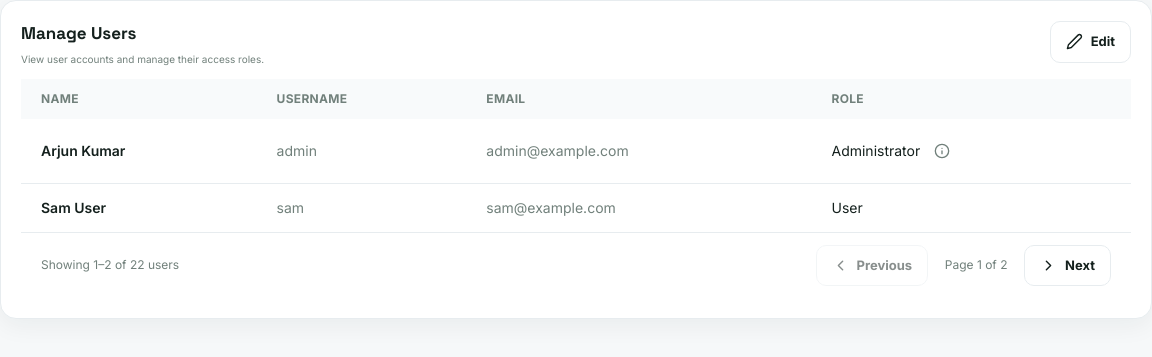
Test case: AdminUsersPage › updates another user's role with the PATCH API
Expected: the text "Sam User" is shown, [21, 183, 257, 232]
Click the button "Edit": (1090, 42) [1050, 21, 1131, 62]
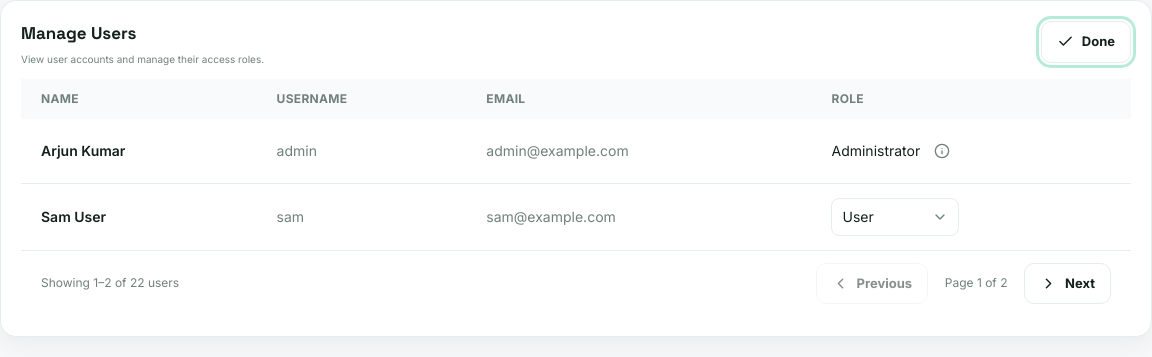
Click the button with aria-label "Role for Sam User": (896, 216) [832, 198, 960, 236]
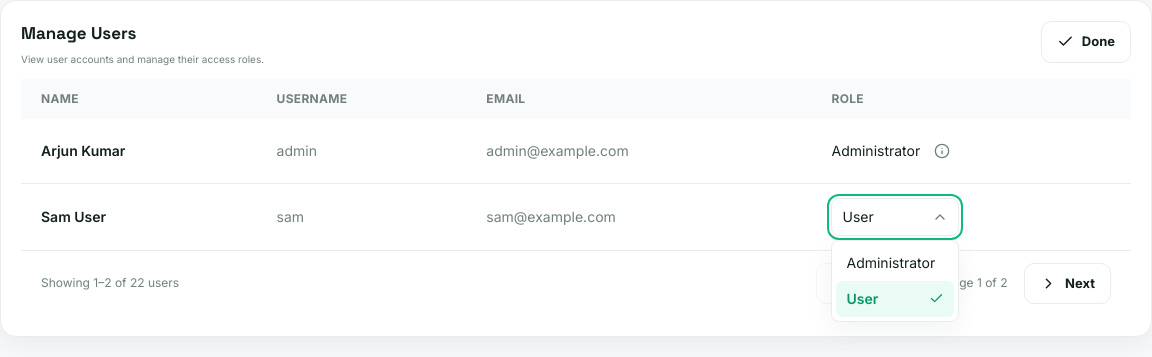
Click the option "Administrator": (896, 262) [836, 244, 954, 280]
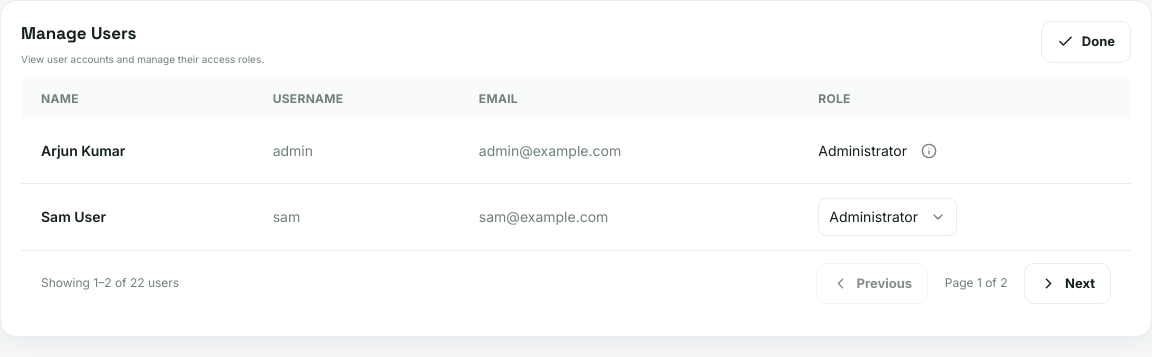
Expected: the button with aria-label "Role for Sam User" reads "Administrator", [818, 198, 957, 236]
